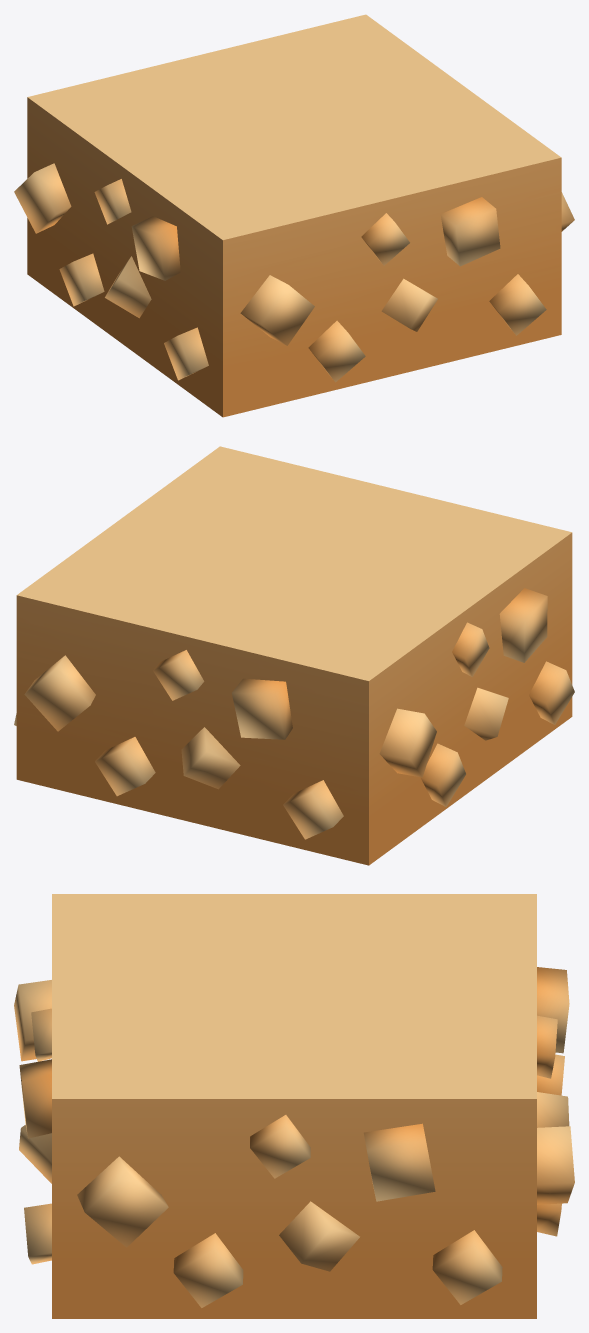
The model's file is m_Brownie03_Slice03.fbx.
3 renders of one model, top to bottom at view 1: azimuth 30°, elevation 25°; view 2: azimuth 150°, elevation 25°; view 3: azimuth 270°, elevation 25°, orthographic. The views are drawn at different scales.
Parts seen in each view (by area): view 1: m_Brownie03_Slice03; view 2: m_Brownie03_Slice03; view 3: m_Brownie03_Slice03.
Part boxes in pixels (x1,y1,x2,y2): m_Brownie03_Slice03: [14, 14, 574, 417]; m_Brownie03_Slice03: [14, 446, 574, 865]; m_Brownie03_Slice03: [14, 894, 574, 1318].
Bounding box in the file's own units: 11.57 × 5 × 11.57.
